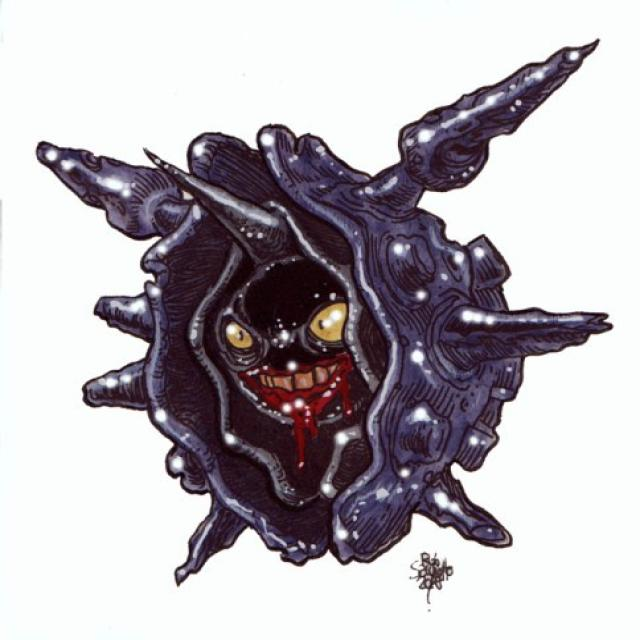Cloyster: (100, 130, 533, 548)
